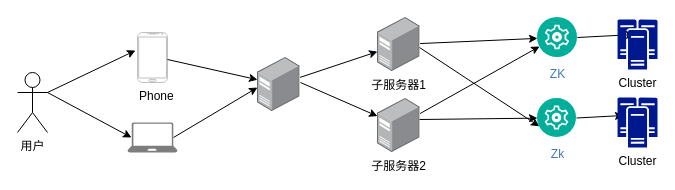
This 675x190 diagram has some shape labels left out. Here are the shapes that lost their labels. From the top down, the box of each, then its label:
(257, 57, 300, 111): 负载均衡服务器
(127, 122, 177, 152): PC
